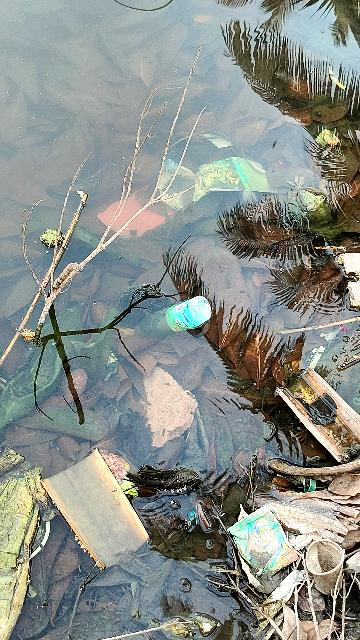bottle: (122, 294, 214, 355)
